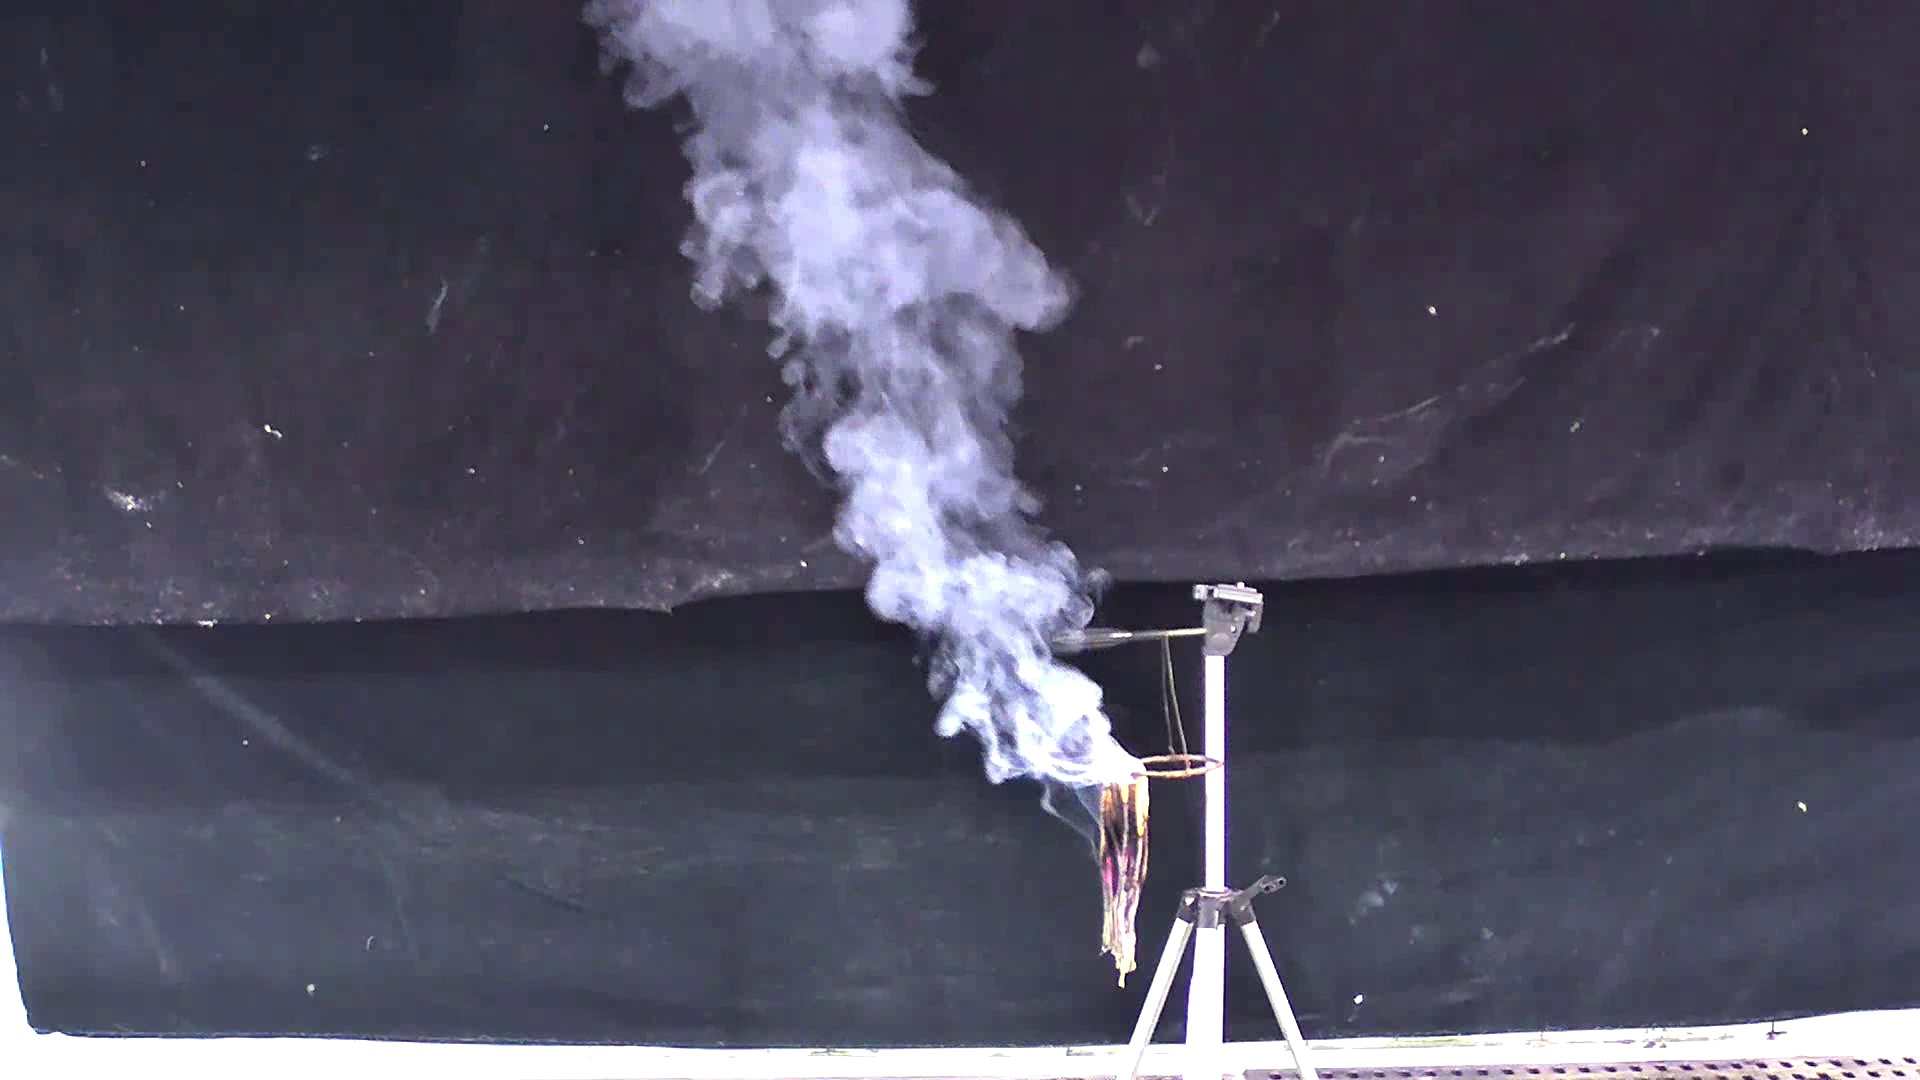smoke: (564, 1, 1150, 791)
